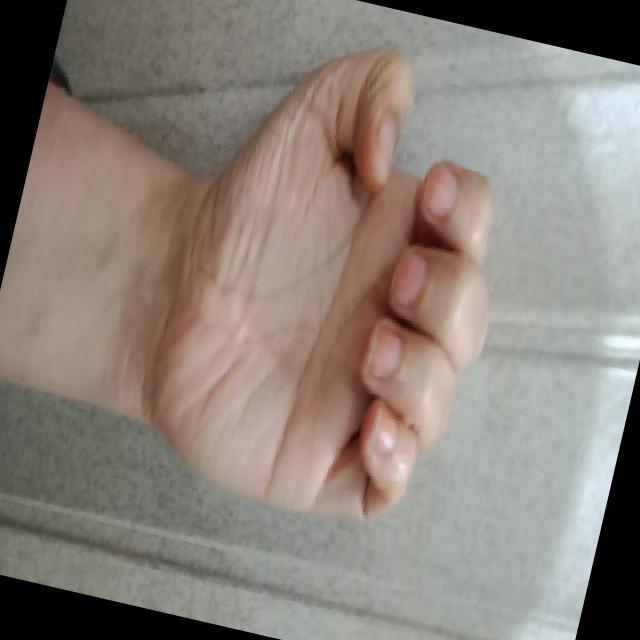Nail: (394, 253, 425, 305), (369, 402, 396, 456), (369, 329, 400, 376), (374, 117, 395, 184), (426, 172, 456, 217)
